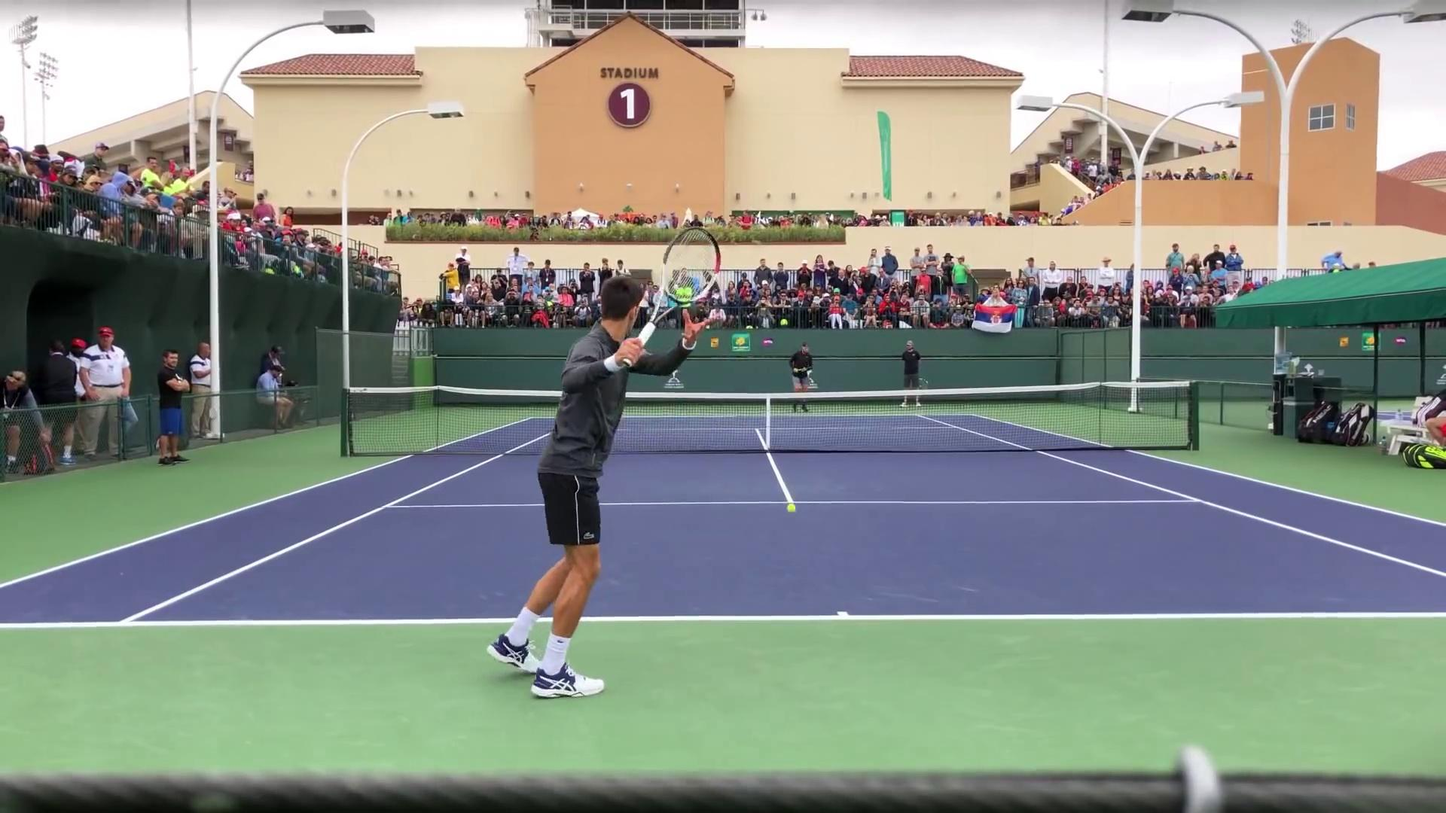ball: (785, 503, 799, 518)
